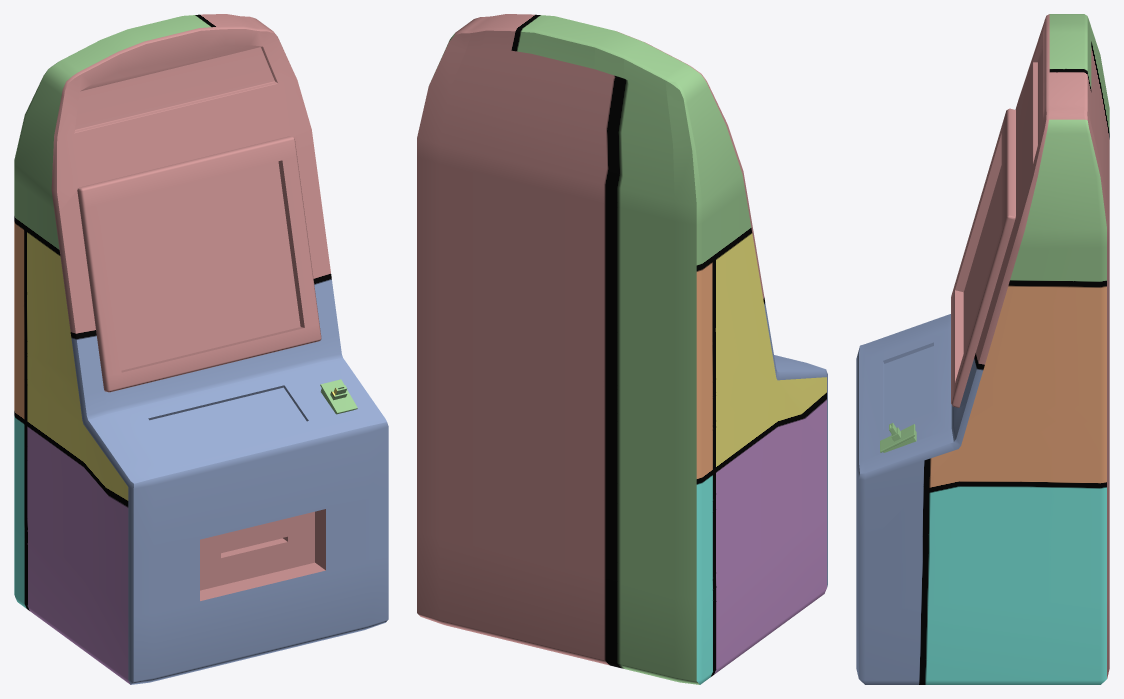
Rendered from PoKieMachine01.fbx.
The picture shows the model from 3 angles, left to right: view 1: azimuth 30°, elevation 25°; view 2: azimuth 150°, elevation 25°; view 3: azimuth 270°, elevation 25°; orthographic projection. The views are drawn at different scales.
Parts seen in each view (by area): view 1: PokieMachine_MoneySlot; view 2: PokieMachine_MoneySlot; view 3: PokieMachine_MoneySlot.
Part boxes in pixels (box(x1,y1,x2,y2)): PokieMachine_MoneySlot: box(14, 14, 388, 684); PokieMachine_MoneySlot: box(417, 14, 827, 684); PokieMachine_MoneySlot: box(856, 14, 1109, 684).
Bounding box in the file's own units: 97.14 × 199 × 79.15.
Materials: 1 (1 with a texture image).
